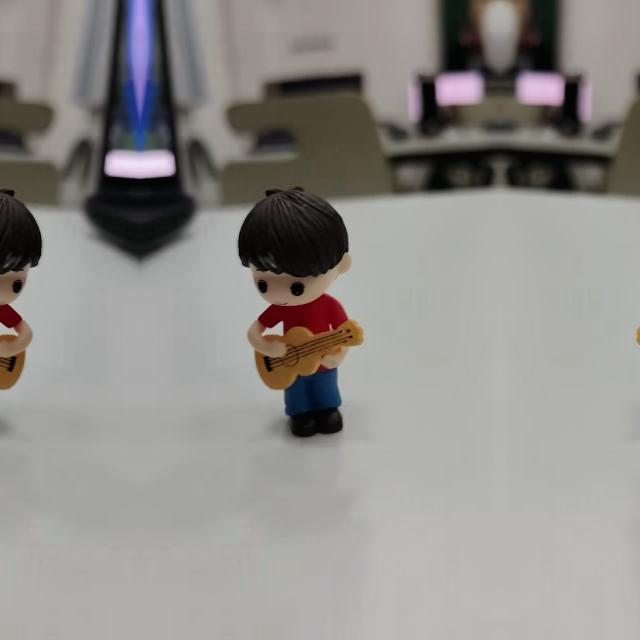man cloth: (258, 296, 350, 344), (0, 296, 22, 343)
man head: (238, 182, 354, 310), (0, 182, 41, 310)
trousers: (283, 369, 347, 439)
